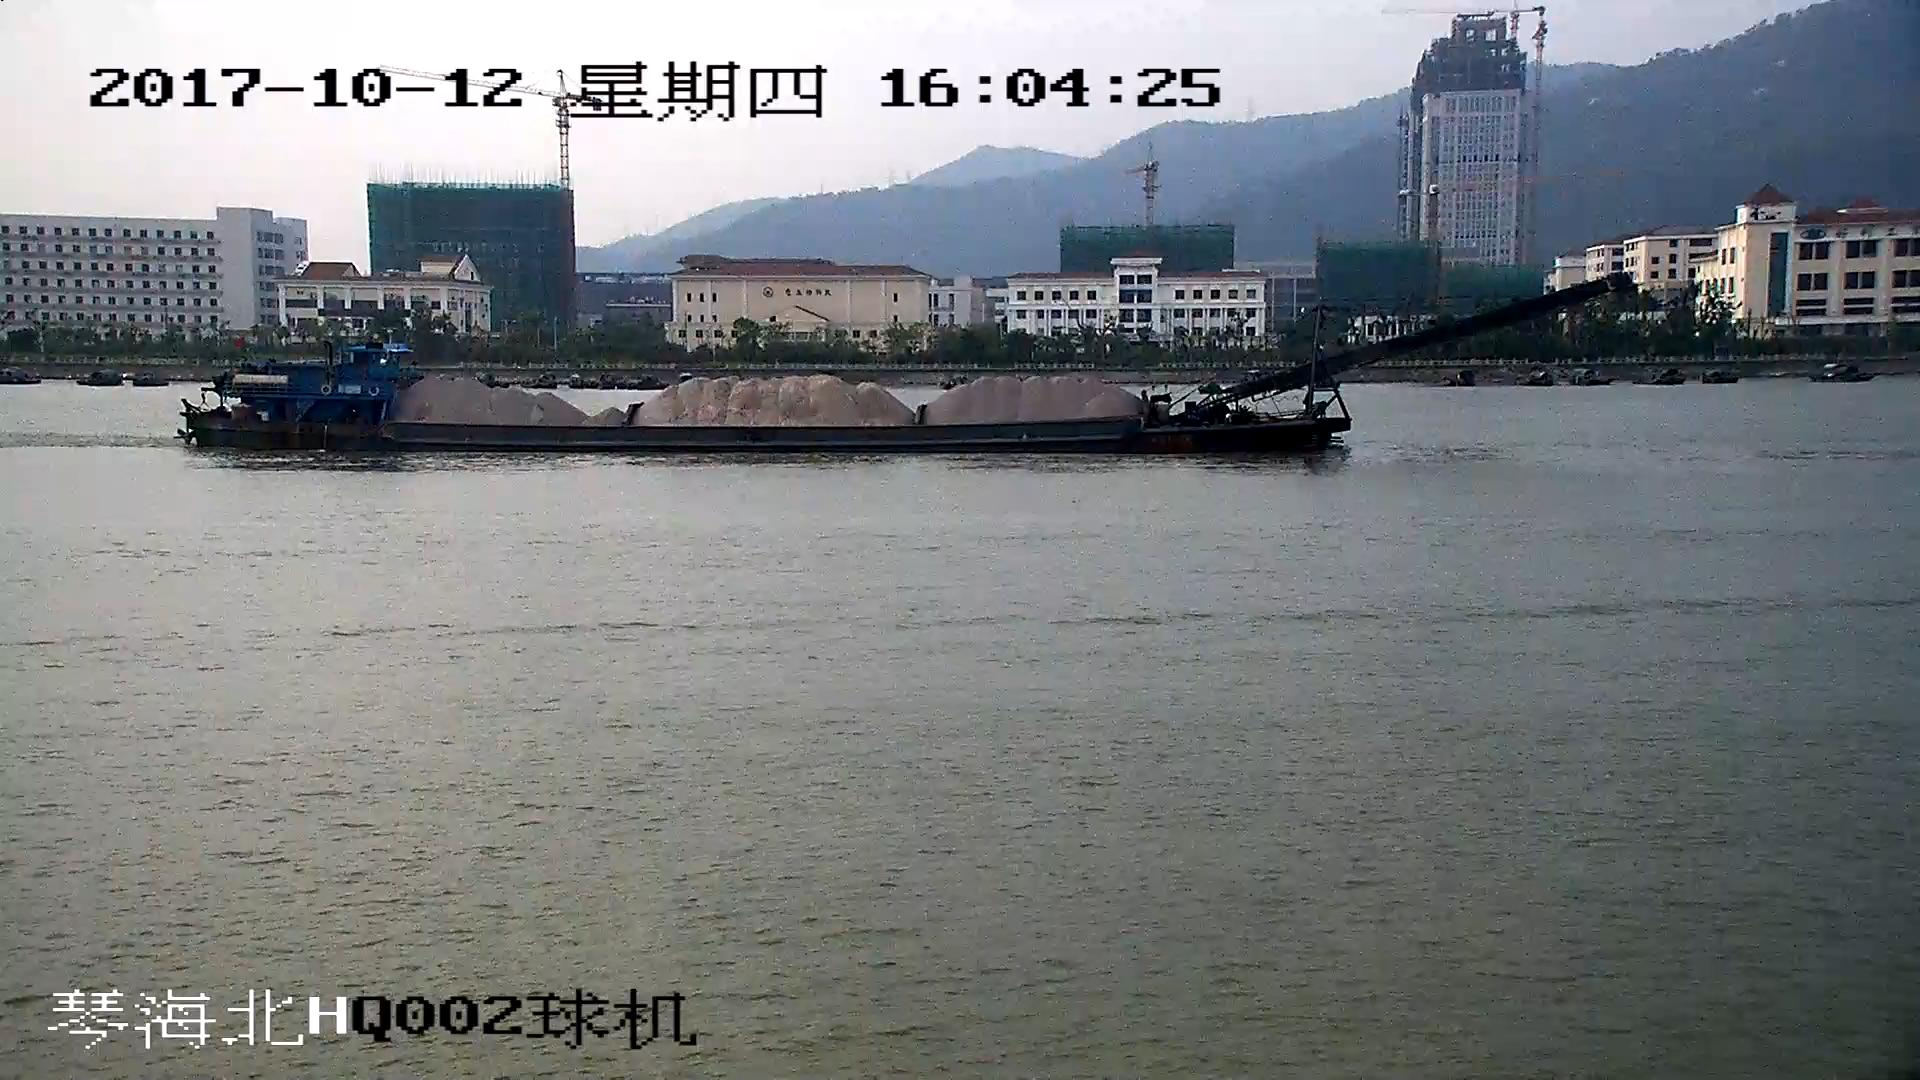ore carrier: (183, 278, 1625, 454)
